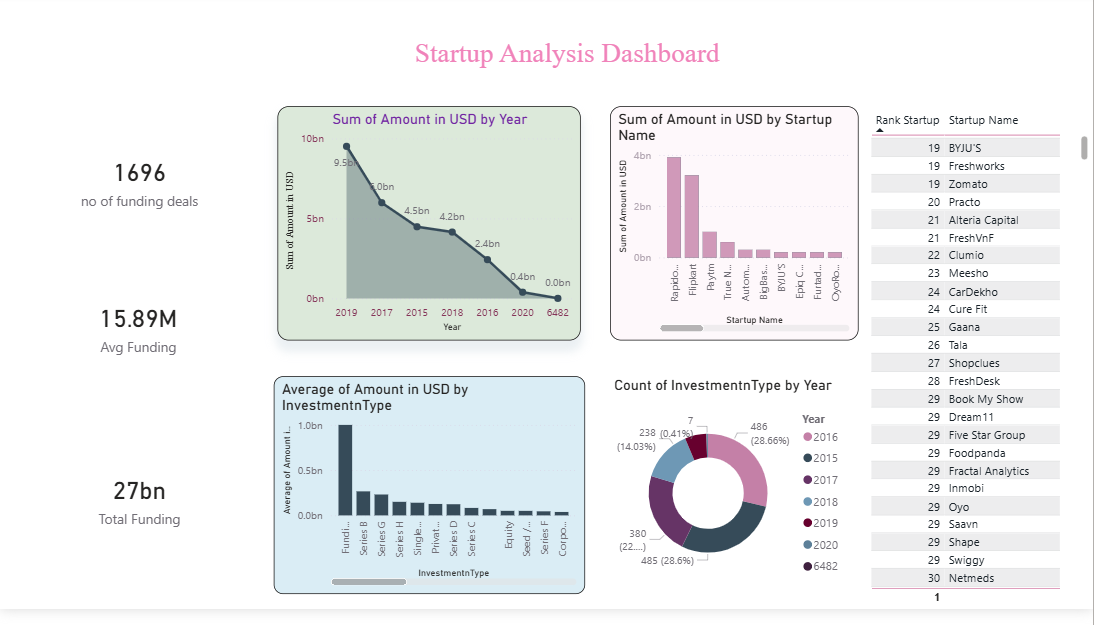

The dashboard page shown, as its layout file describes it:
{"tool":"powerbi","page":{"name":"Page 1","canvas":[1280,720],"ordinal":0},"visuals":[{"type":"lineChart","fields":{"Y":["Sum(startup (2).Amount in USD)"],"Category":["startup (2).Year"]},"box":[325.2,130.4,355.4,274.4],"z":0},{"type":"textbox","box":[28.8,43.9,1219.9,63.1],"z":1000},{"type":"clusteredColumnChart","fields":{"Category":["startup (2).Startup Name"],"Y":["Sum(startup (2).Amount in USD)"]},"box":[714.9,130.4,290.9,274.4],"z":2000},{"type":"clusteredColumnChart","fields":{"Y":["Avg(startup (2).Amount in USD)"],"Category":["startup (2).InvestmentnType"]},"box":[321.1,446,365,255.2],"z":3000},{"type":"card","fields":{"Values":["startup (2).no of funding deals"]},"box":[28.9,122.4,250.5,172.5],"z":4000},{"type":"card","fields":{"Values":["startup (2).Avg Funding"]},"box":[27.8,312.8,251.6,149.2],"z":5000},{"type":"card","fields":{"Values":["startup (2).Total Funding"]},"box":[27.8,477.6,251.6,223.7],"z":6000},{"type":"donutChart","fields":{"Category":["startup (2).Year"],"Y":["CountNonNull(startup (2).InvestmentnType)"]},"box":[714.9,446,281.3,255.2],"z":6001},{"type":"tableEx","fields":{"Values":["startup (2).Rank Startup","startup (2).Startup Name"]},"box":[1015.2,130.2,264.9,590],"z":6002}]}

Visuals, with their boxes in screenshot pixels (x1, y1, x2, y2), scaled from the page's 1280x720 canvas onto the 1094x625 screenshot:
lineChart - Sum(startup (2).Amount in USD) x startup (2).Year: box=[278, 113, 582, 351]
textbox: box=[25, 38, 1067, 93]
clusteredColumnChart - startup (2).Startup Name x Sum(startup (2).Amount in USD): box=[611, 113, 860, 351]
clusteredColumnChart - Avg(startup (2).Amount in USD) x startup (2).InvestmentnType: box=[274, 387, 586, 609]
card - startup (2).no of funding deals: box=[25, 106, 239, 256]
card - startup (2).Avg Funding: box=[24, 272, 239, 401]
card - startup (2).Total Funding: box=[24, 415, 239, 609]
donutChart - startup (2).Year x CountNonNull(startup (2).InvestmentnType): box=[611, 387, 851, 609]
tableEx - startup (2).Rank Startup x startup (2).Startup Name: box=[868, 113, 1093, 624]
